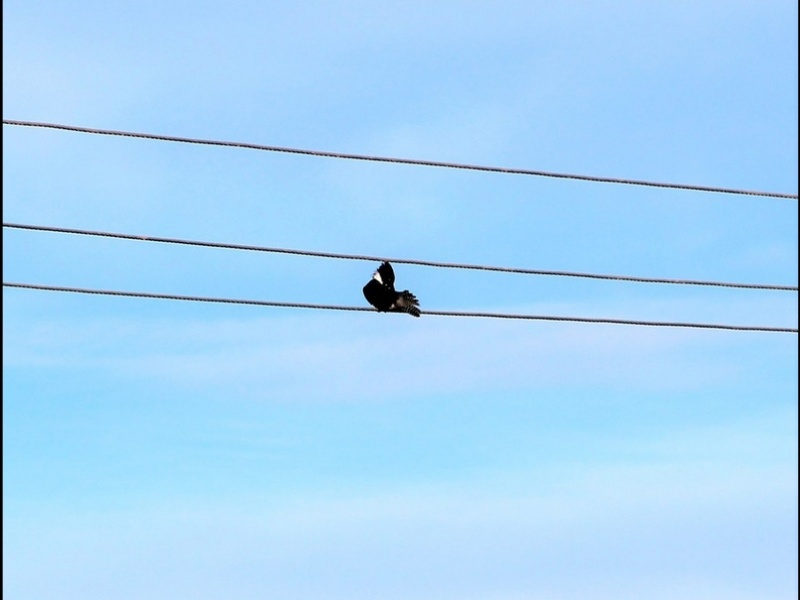kingfisher: (360, 260, 424, 320)
